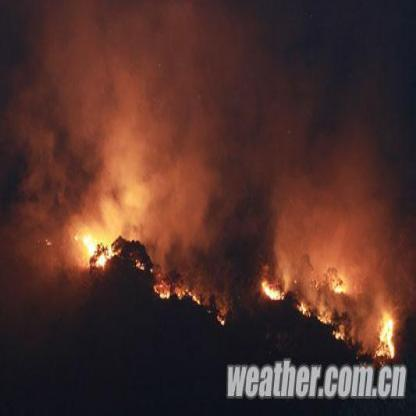fire: (266, 265, 397, 356), (158, 264, 228, 324), (82, 224, 124, 265)
smoke: (191, 29, 282, 291)
